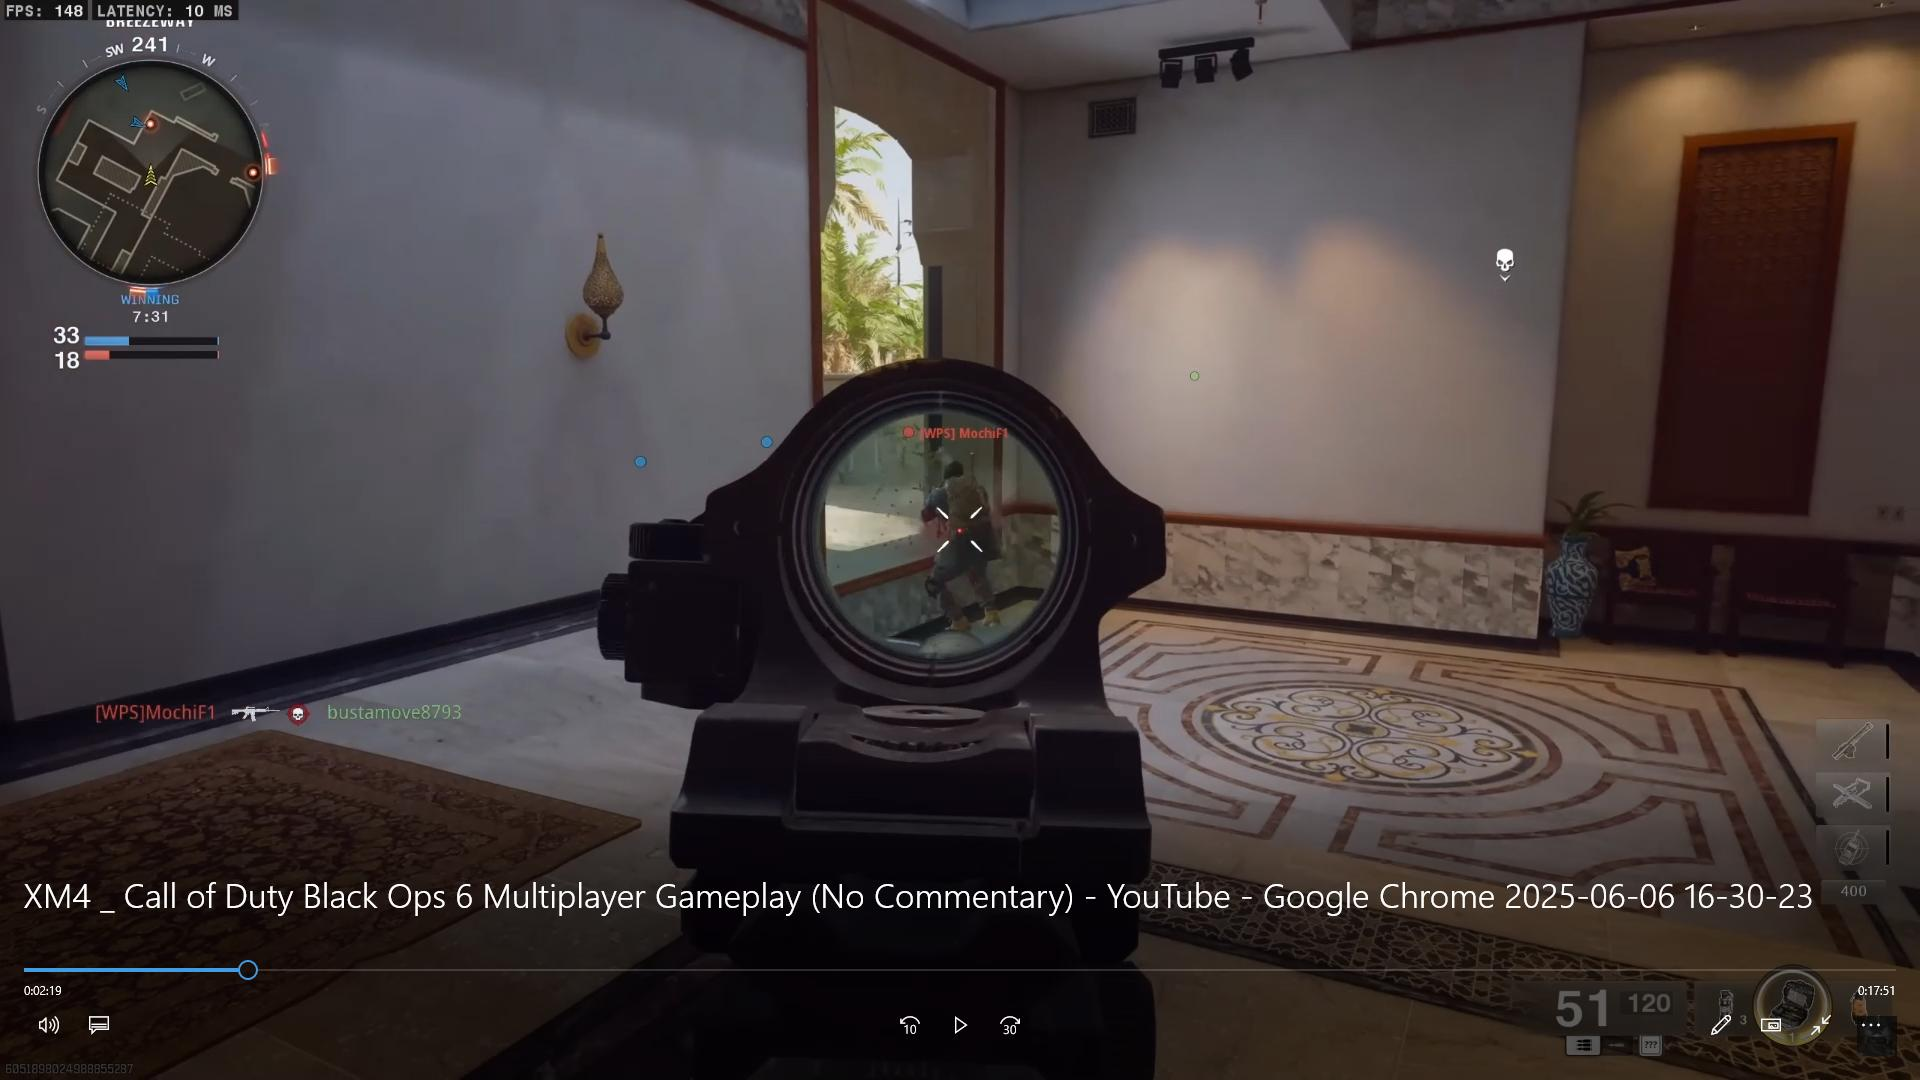Enemy: (905, 414, 1017, 638)
